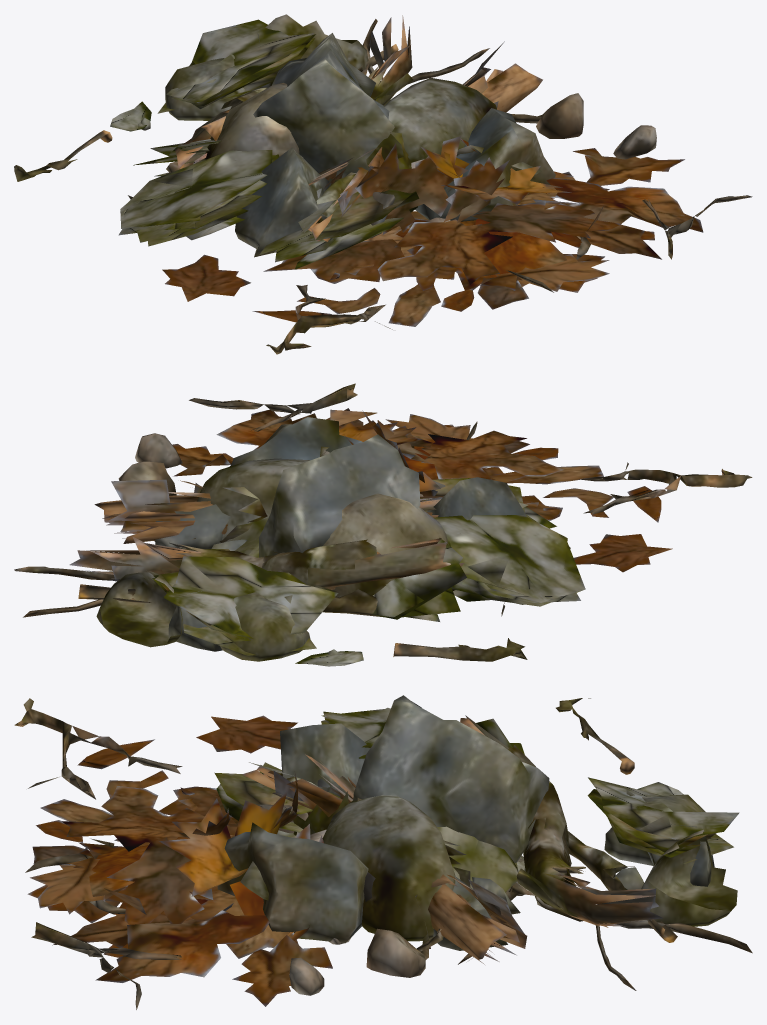
The model's file is debris.glb.
3 views of the same model, one above another, from view 1: azimuth 30°, elevation 25°; view 2: azimuth 150°, elevation 25°; view 3: azimuth 270°, elevation 25° (orthographic). The views are drawn at different scales.
Parts seen in each view (by area): view 1: fallen_leaves_03, loose_stone_02, loose_stone_03, fallen_leaves_02, fallen_leaves_01, loose_stone_01, fallen_twig_02, fallen_branch_03, loose_stone_04, fallen_twig_03, fallen_branch_02; view 2: loose_stone_02, loose_stone_03, fallen_leaves_03, fallen_leaves_01, fallen_twig_03, fallen_leaves_02, fallen_twig_02, fallen_branch_03, loose_stone_04, loose_stone_01, fallen_twig_01; view 3: loose_stone_02, fallen_leaves_02, fallen_leaves_03, loose_stone_01, loose_stone_03, fallen_leaves_01, fallen_branch_03, fallen_twig_03, fallen_twig_02, fallen_twig_01, loose_stone_04.
Part boxes in pixels (x1,y1,x2,y2): fallen_leaves_03: [110, 19, 654, 326]; loose_stone_02: [235, 33, 555, 257]; loose_stone_03: [118, 93, 656, 269]; fallen_leaves_02: [162, 33, 703, 322]; fallen_leaves_01: [140, 14, 609, 311]; loose_stone_01: [204, 78, 541, 174]; fallen_twig_02: [14, 19, 752, 354]; fallen_branch_03: [301, 41, 542, 241]; loose_stone_04: [204, 83, 475, 238]; fallen_twig_03: [175, 15, 603, 230]; fallen_branch_02: [128, 114, 541, 251]; loose_stone_02: [155, 417, 526, 557]; loose_stone_03: [118, 433, 585, 621]; fallen_leaves_03: [152, 410, 613, 666]; fallen_leaves_01: [96, 414, 559, 661]; fallen_twig_03: [69, 409, 468, 592]; fallen_leaves_02: [168, 408, 672, 651]; fallen_twig_02: [14, 383, 752, 661]; fallen_branch_03: [94, 472, 443, 543]; loose_stone_04: [323, 480, 455, 597]; loose_stone_01: [197, 446, 329, 542]; fallen_twig_01: [78, 584, 439, 617]; loose_stone_02: [217, 695, 549, 950]; fallen_leaves_02: [52, 715, 714, 1006]; fallen_leaves_03: [27, 770, 739, 958]; loose_stone_01: [240, 795, 525, 941]; loose_stone_03: [214, 707, 524, 995]; fallen_leaves_01: [30, 787, 737, 926]; fallen_branch_03: [242, 754, 527, 964]; fallen_twig_03: [104, 715, 662, 927]; fallen_twig_02: [14, 698, 752, 1009]; fallen_twig_01: [90, 831, 677, 942]; loose_stone_04: [256, 778, 525, 944].
Bounding box in the file's own units: 0.3267 × 0.0747 × 0.3413.
Materials: 1 (1 with a texture image).
